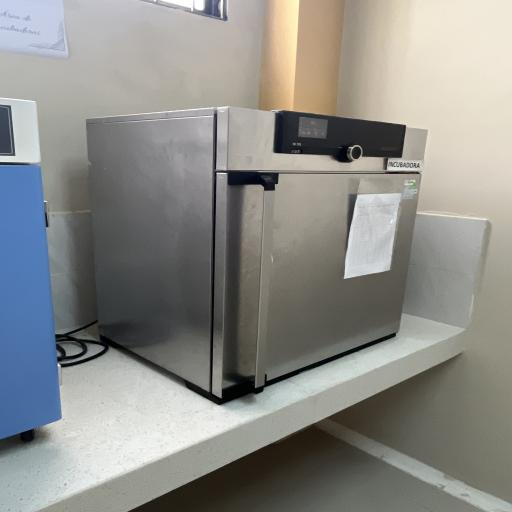Incubadora: (79, 95, 435, 415)
